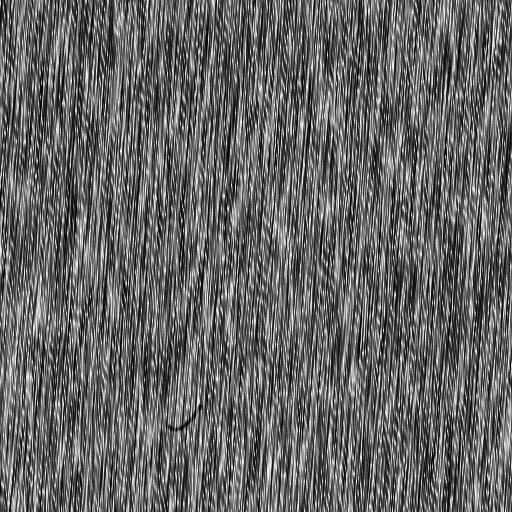DefectTypeC: (162, 404, 205, 431)
